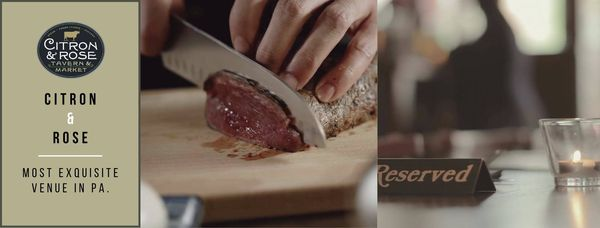pizza: (538, 117, 600, 189)
